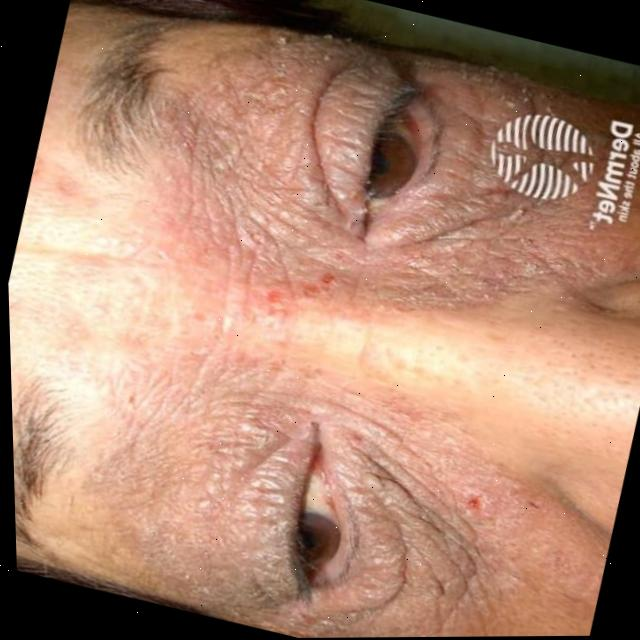Eczema: (247, 41, 523, 283), (172, 395, 421, 617), (223, 249, 349, 363)
